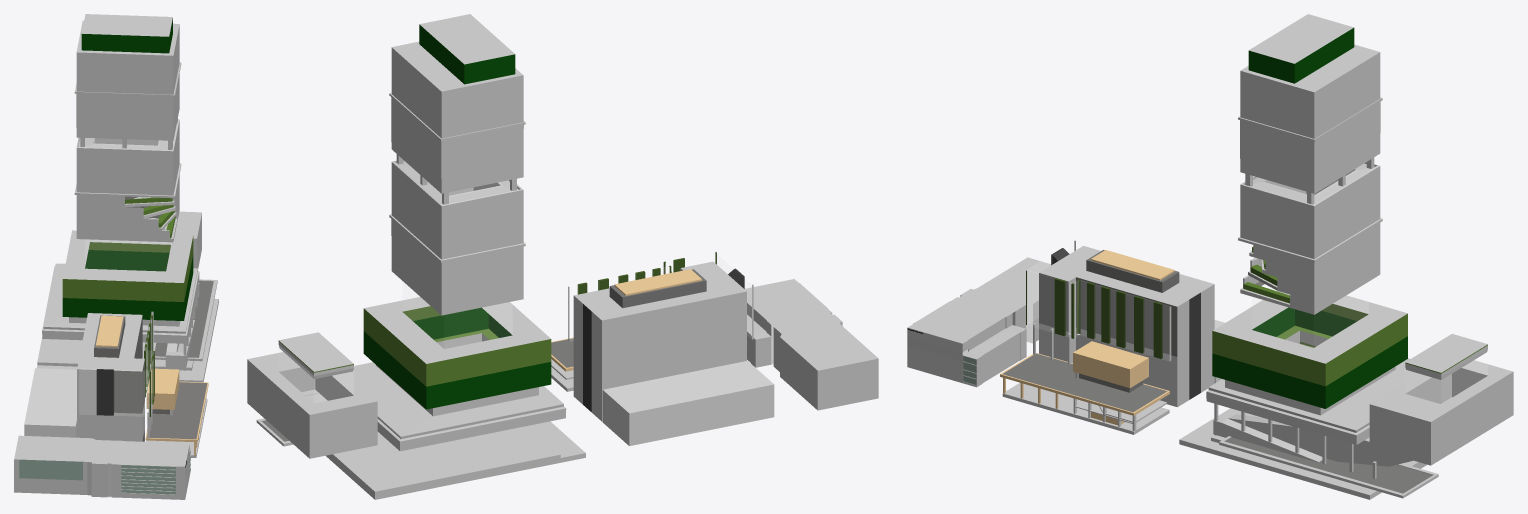
The model's file is med-solid-v2.glb.
3 views of the same model, side by side, from view 1: azimuth 30°, elevation 25°; view 2: azimuth 150°, elevation 25°; view 3: azimuth 270°, elevation 25° (orthographic). The views are drawn at different scales.
Parts seen in each view (by area): view 1: Tower, Mid, Cube; view 2: Tower, Mid, Cube; view 3: Tower, Mid, Cube.
Part boxes in pixels (<box>): Tower: <box>37,14,218,382</box>; Mid: <box>24,311,208,457</box>; Cube: <box>14,435,190,499</box>; Tower: <box>247,14,585,499</box>; Mid: <box>551,251,774,445</box>; Cube: <box>744,279,878,410</box>; Tower: <box>1179,14,1513,499</box>; Mid: <box>1000,240,1224,434</box>; Cube: <box>907,257,1050,387</box>.
Bounding box in the file's own units: 170 × 147 × 207.
